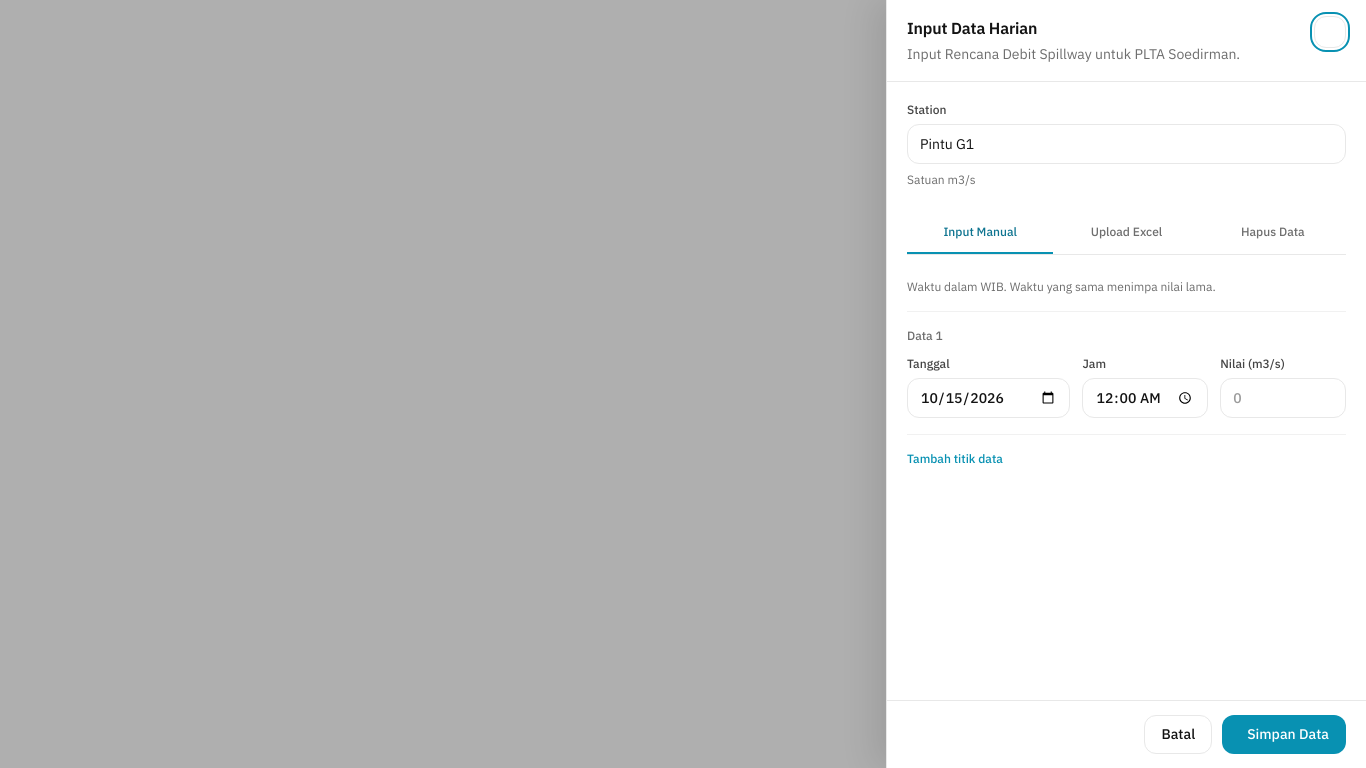
Test: hapus data manual salah unggah › menahan rentang terbalik sebelum sampai ke server
Click the button "Hapus Data". click: x=1273, y=233
box: [1200,212,1346,254]
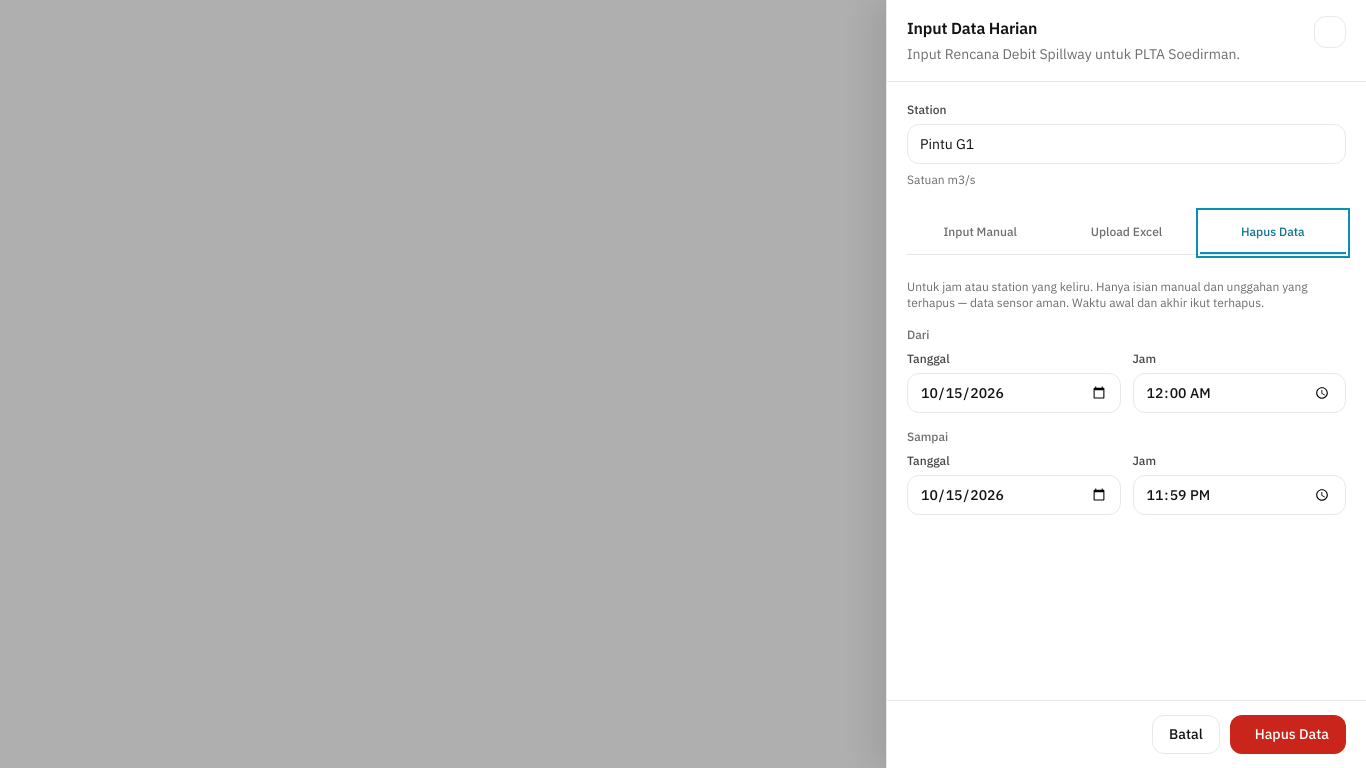
Type "2026-10-16" into the date field labelled "Tanggal" below "Dari". click: x=1014, y=393
box: [907,373,1120,413]
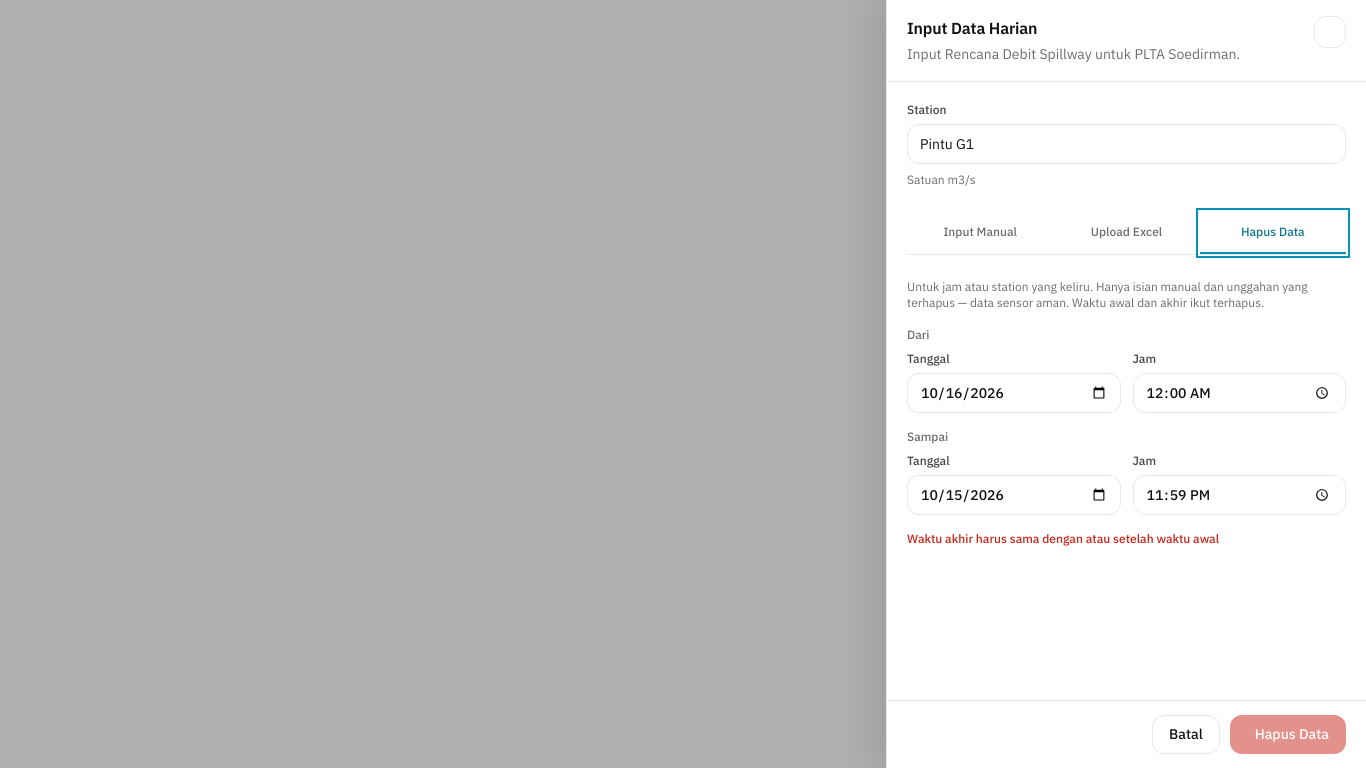
Expected: the text "Waktu akhir harus sama dengan atau setelah waktu awal" is shown, [907,531,1219,546]
Expected: the 2nd button "Hapus Data" is disabled, [1230,715,1346,754]
